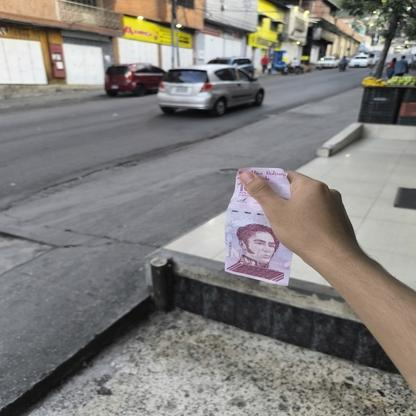one_hundred-front-vef: (224, 166, 292, 287)
